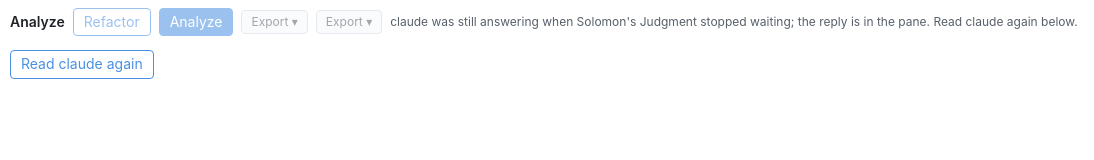
Test: Read again: the hint and the row › a refused re-read (409) shows the code
The image size is (1094, 160).
Click the button with test id "analyze-reread-claude". click: (82, 64)
box: [10,50,154,79]
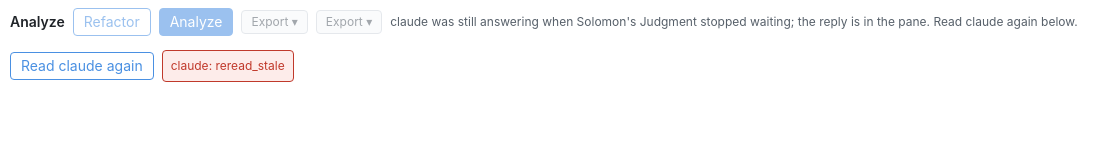
Check: the text with test id "analyze-reread-error" reads "claude: reread_stale", box [162,50,294,82]
